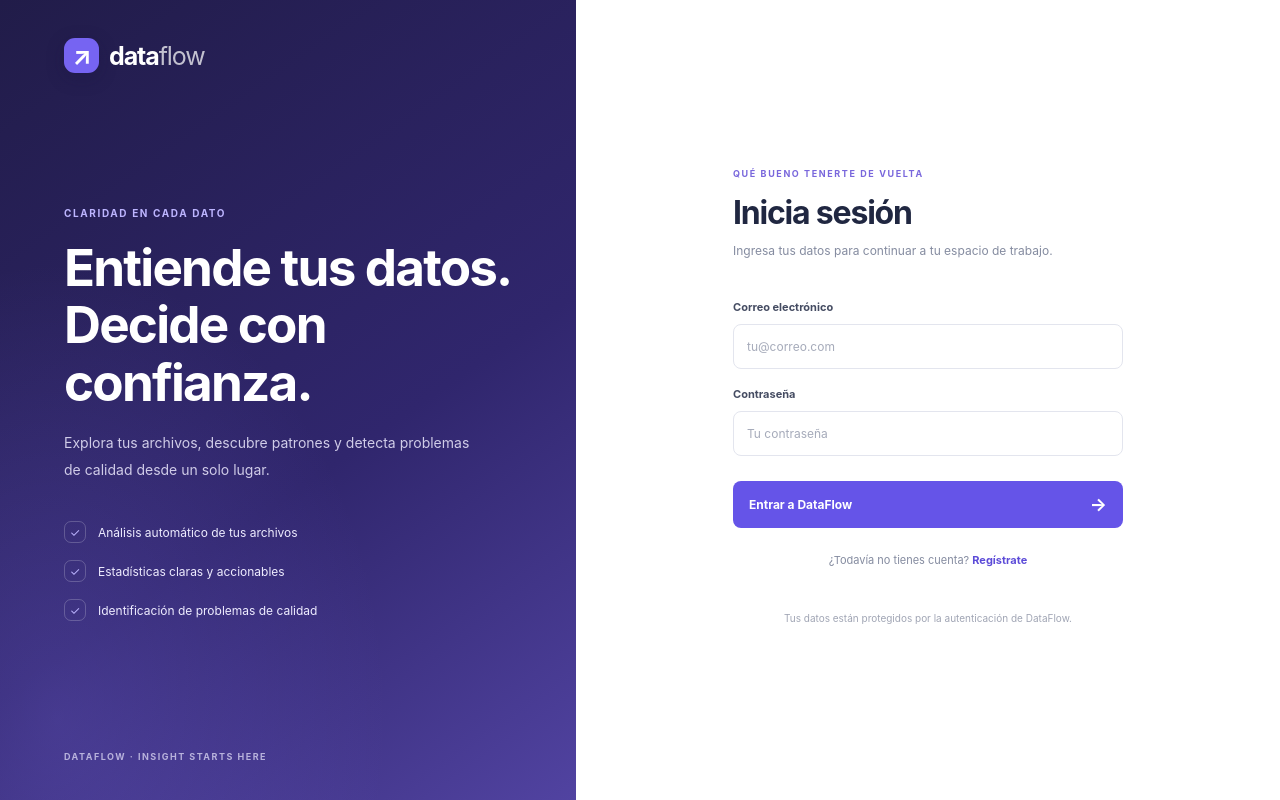
Scenario: AuthScreen › muestra un mensaje cuando las credenciales son incorrectas
This screenshot has width=1280, height=800.
Type "usuario@ejemplo.com" into the field labelled "Correo electrónico" at {"x": 928, "y": 347}, box [733,324,1123,369]
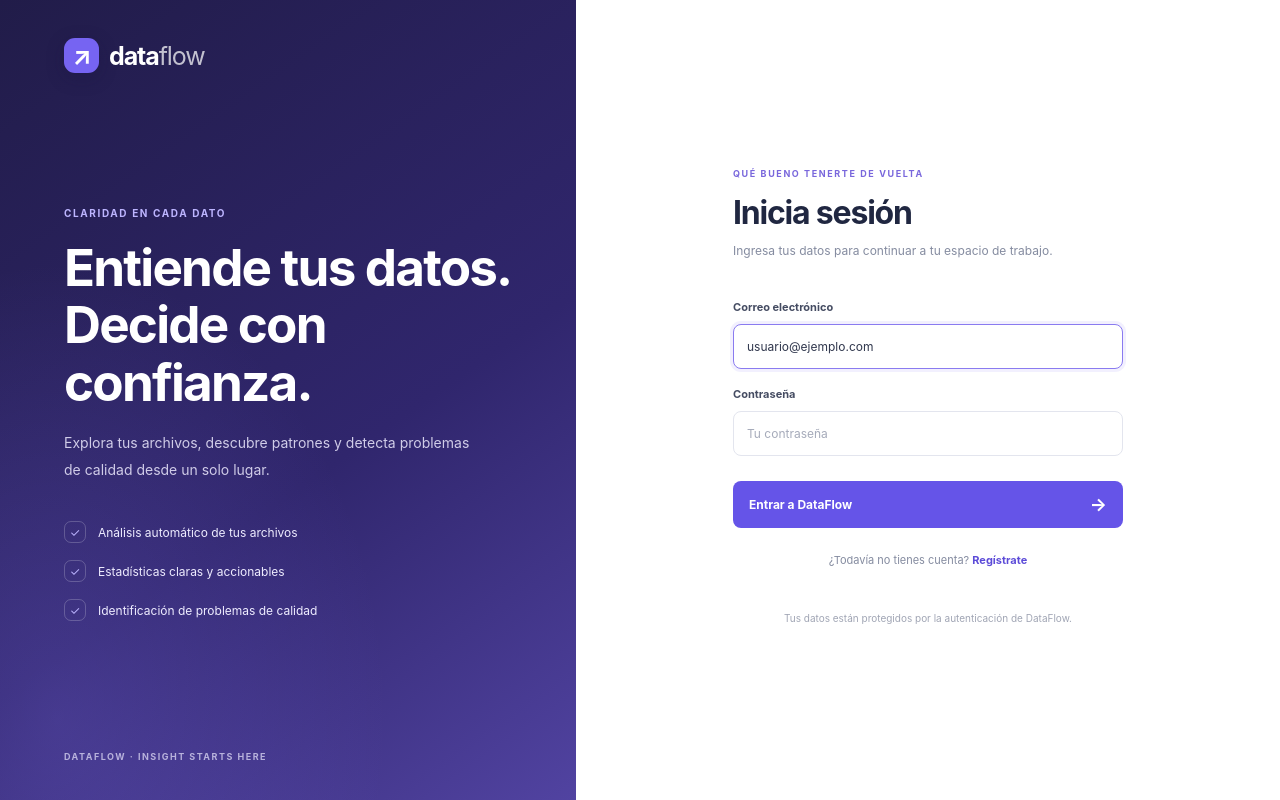
Type "claveIncorrecta" into the password field labelled "Contraseña" at {"x": 928, "y": 434}, box [733,411,1123,456]
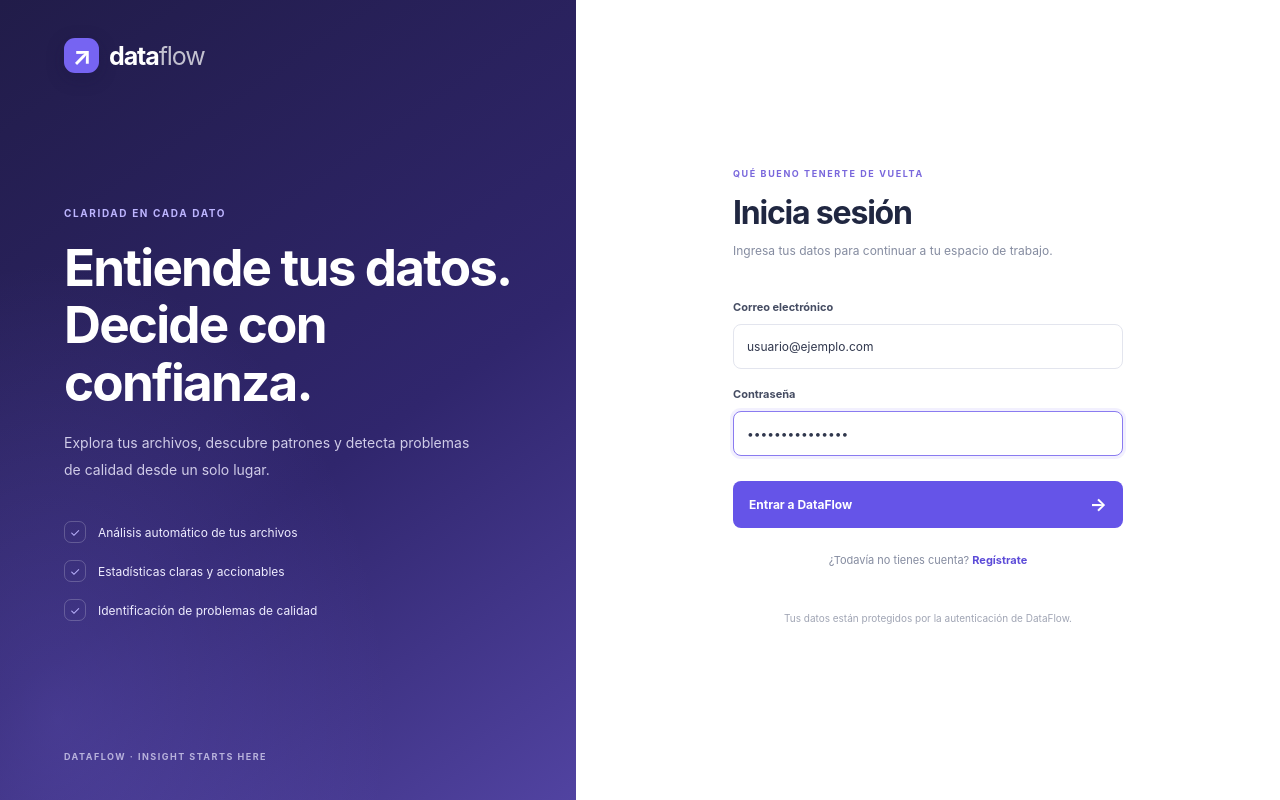
Click the button "Entrar a DataFlow →" at {"x": 801, "y": 505}, box [733,481,1123,528]
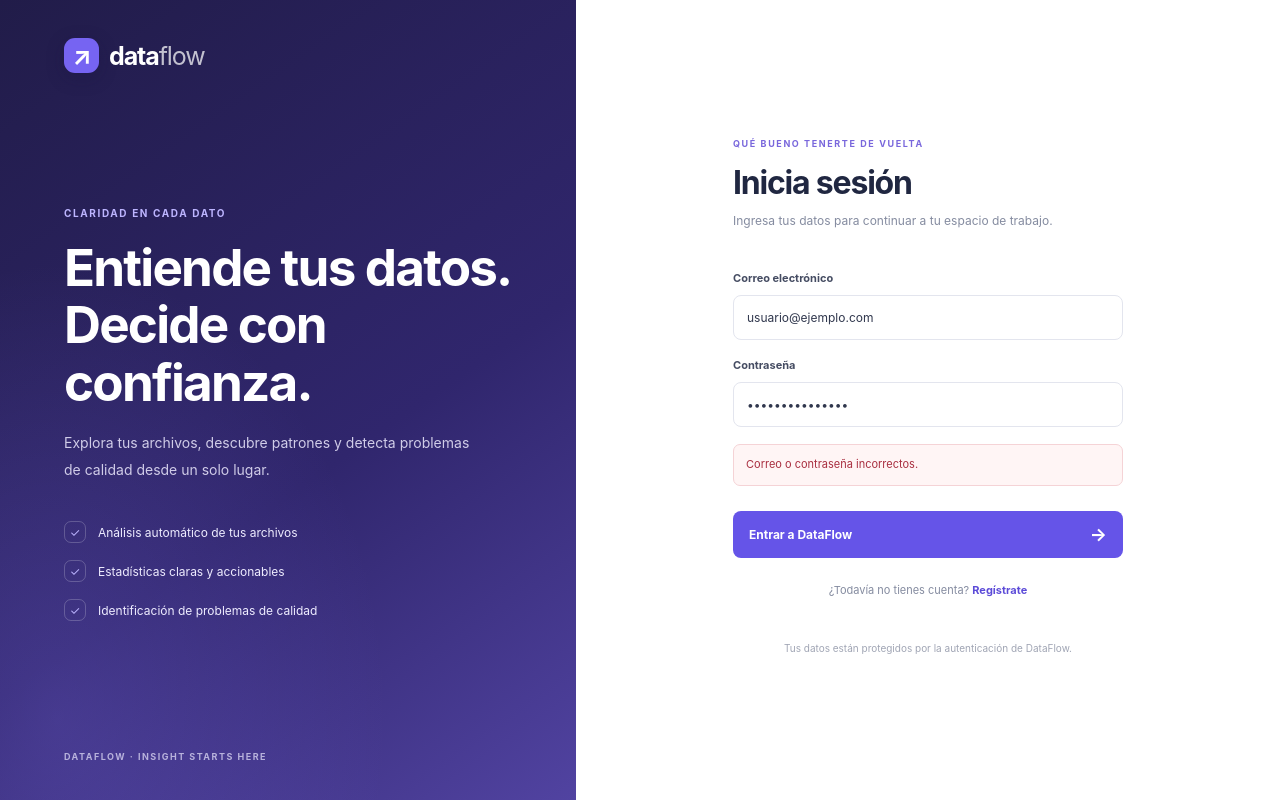
Check: the message reads "Correo o contraseña incorrectos.", box [746,457,918,471]
